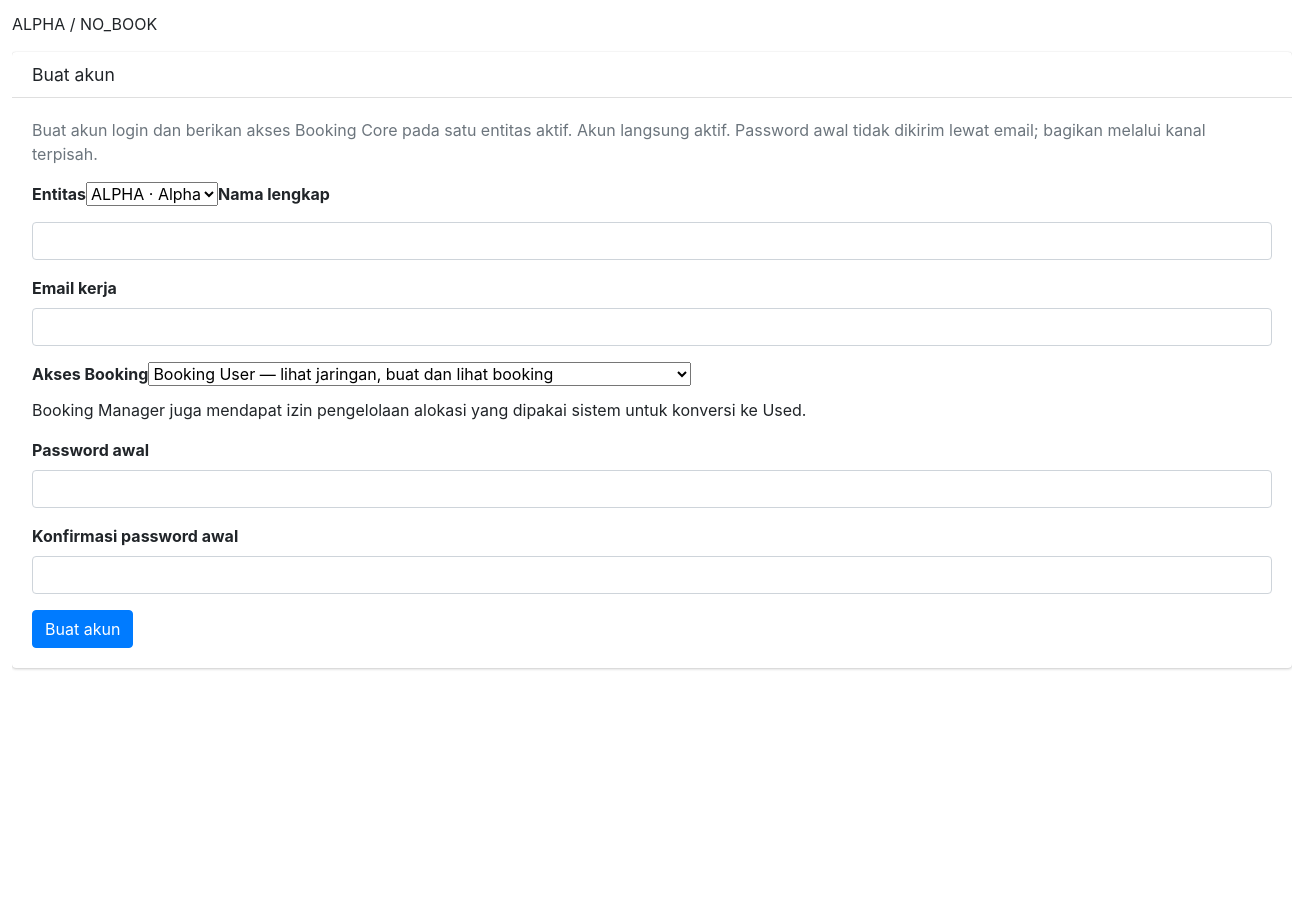
Scenario: operational API interactions › creates a booking account with confirmed initial password and clears secret fields
The image size is (1292, 912).
In the field labelled "Nama lengkap": (652, 241) 32,222 -> 1272,260, type "Booking Tester"
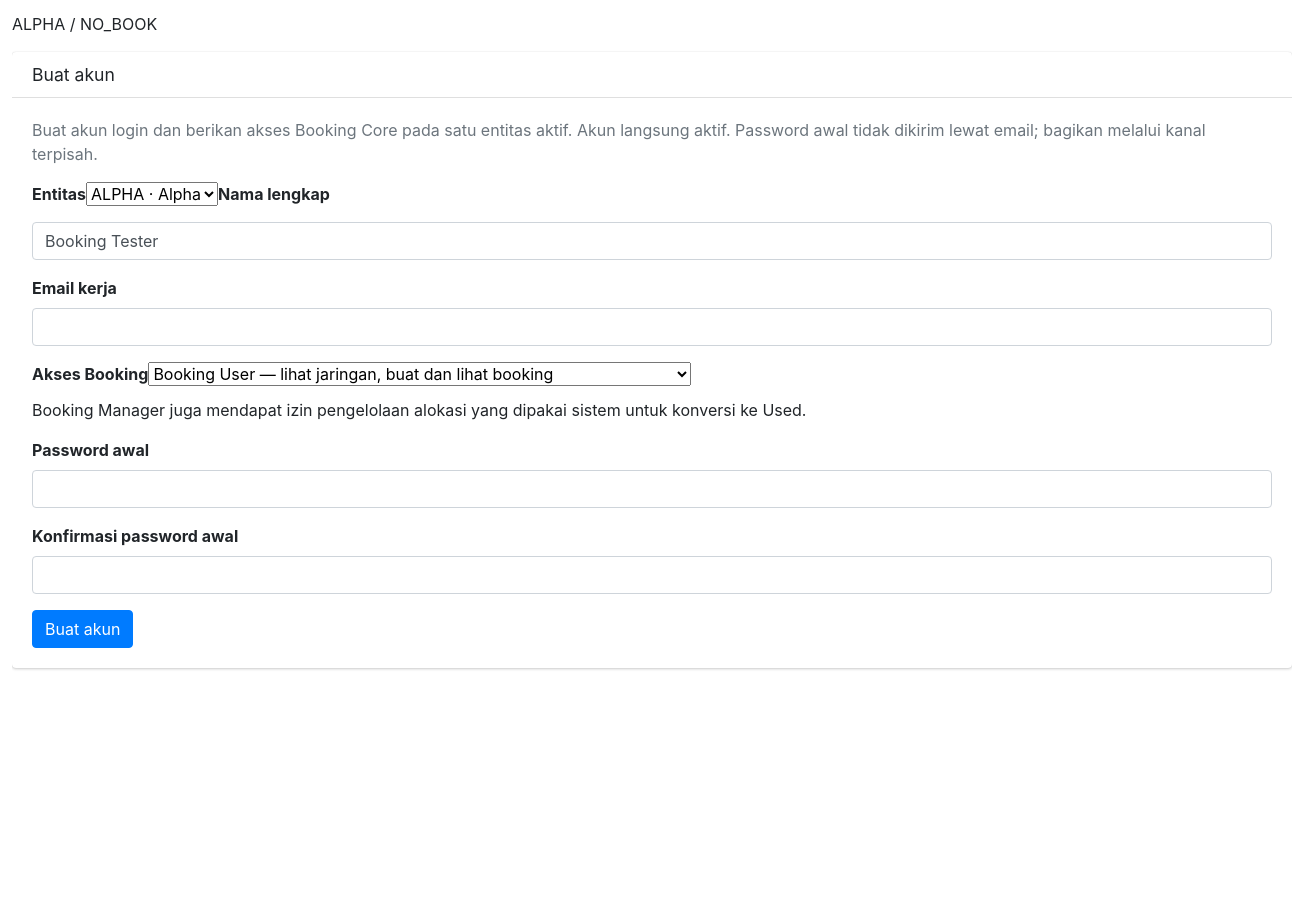
In the field labelled "Email kerja": (652, 327) 32,308 -> 1272,346, type "booking@example.test"
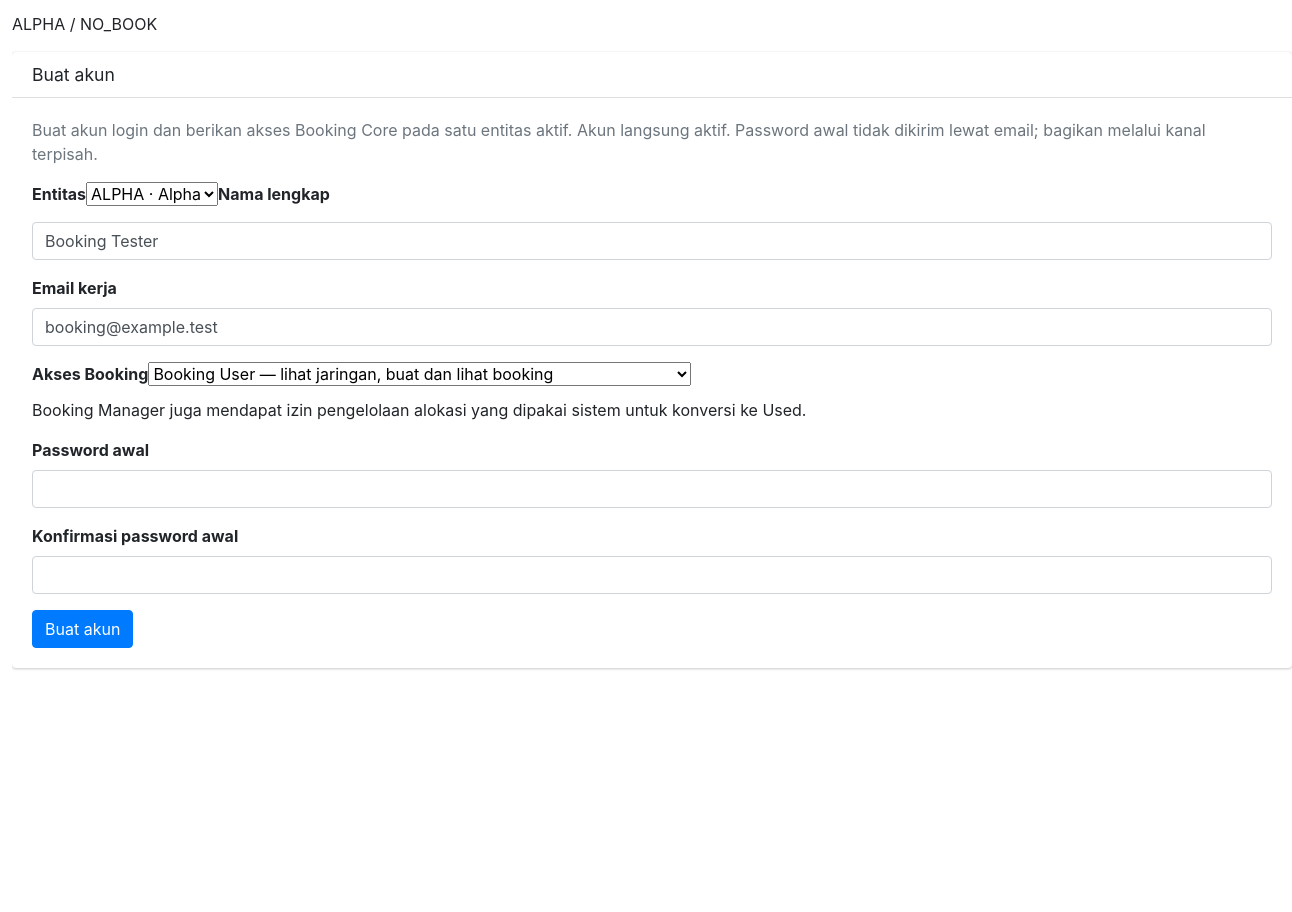
Select "Booking Manager — termasuk release booking dan konversi ke Used" in the dropdown labelled "Akses Booking": (420, 374) 148,362 -> 691,386
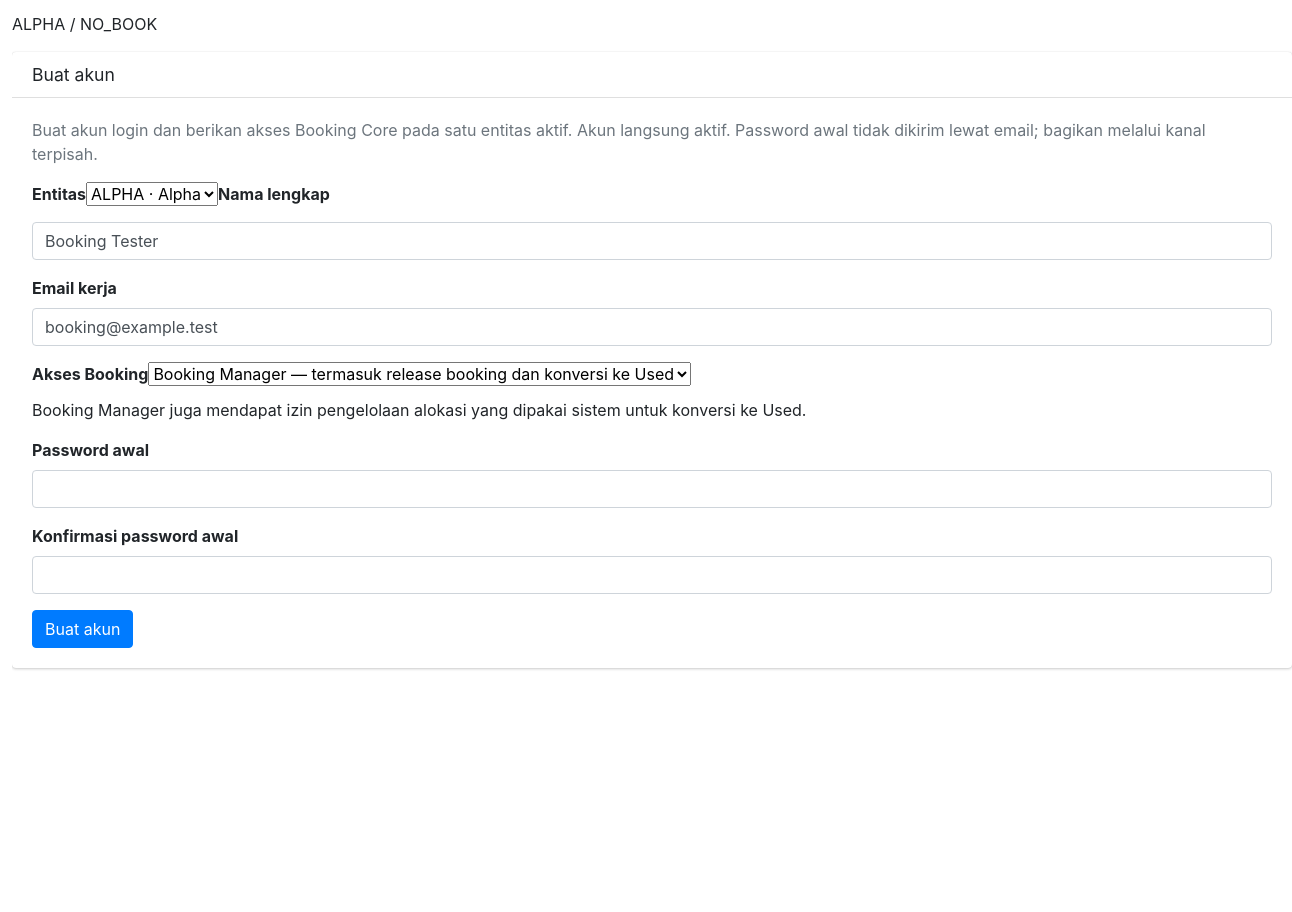
In the password field labelled "Password awal": (652, 489) 32,470 -> 1272,508, type "Secret-test-2026"
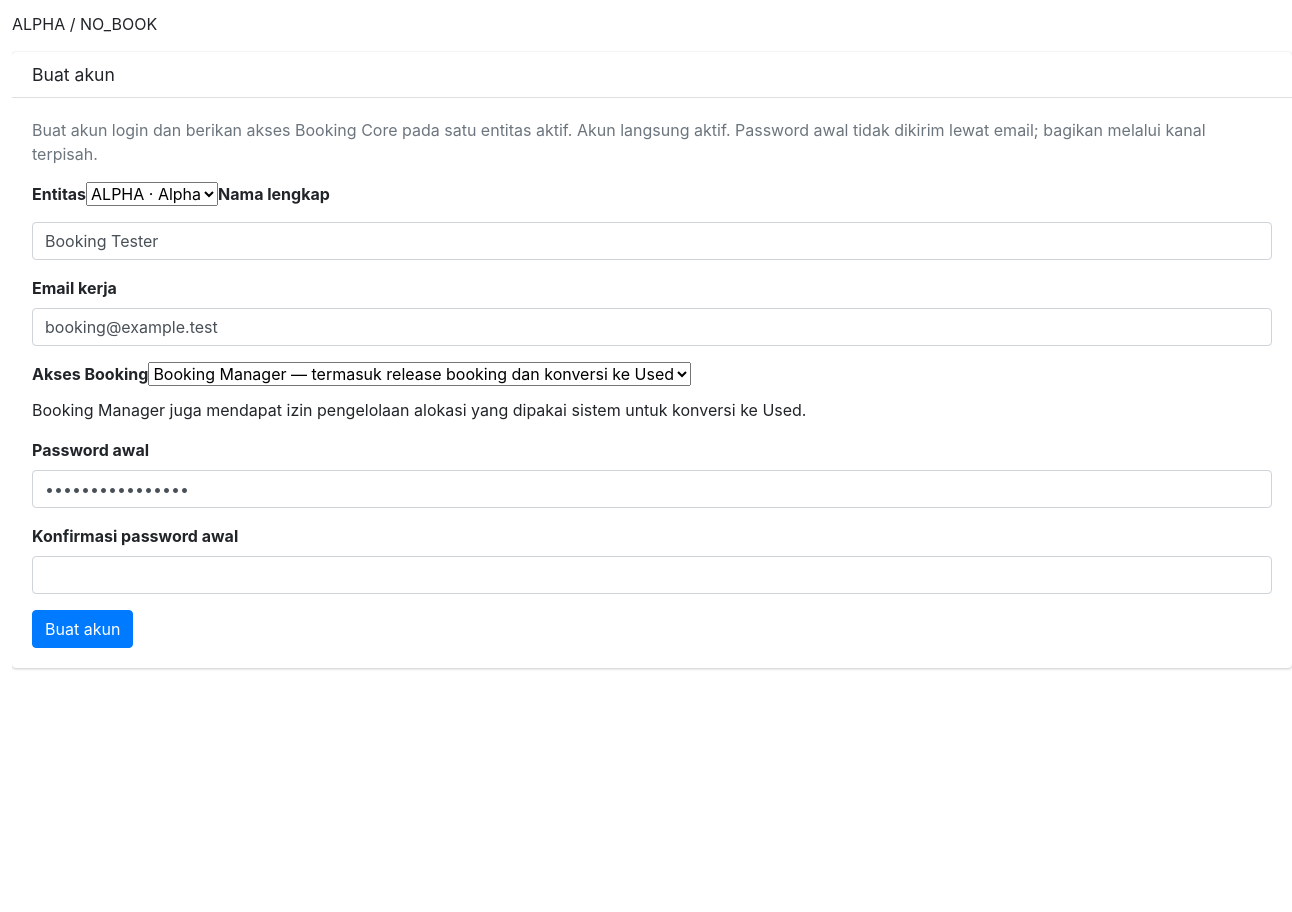
In the password field labelled "Konfirmasi password awal": (652, 575) 32,556 -> 1272,594, type "Secret-test-2026"
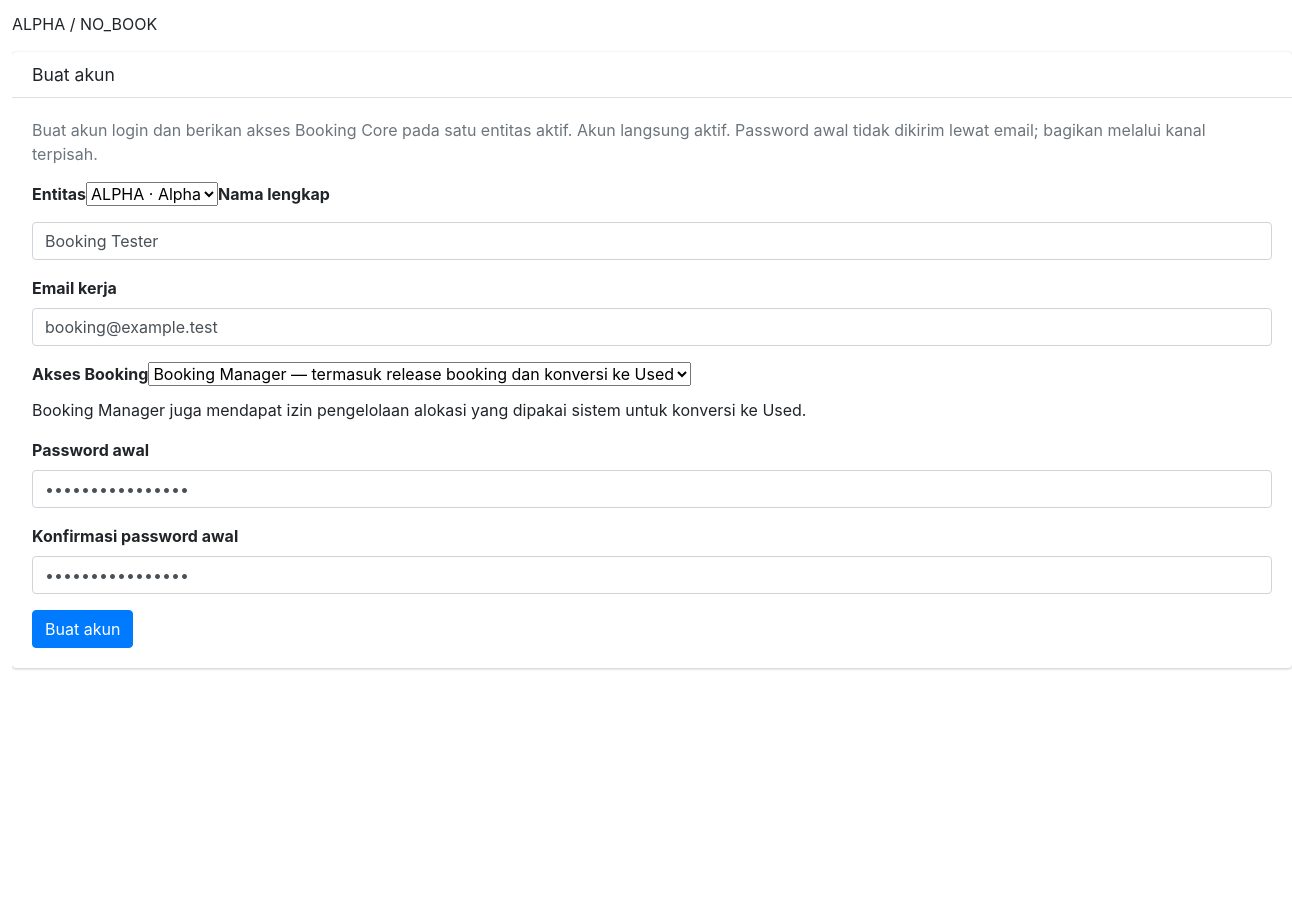
Click the button "Buat akun": (83, 629) 32,610 -> 133,648
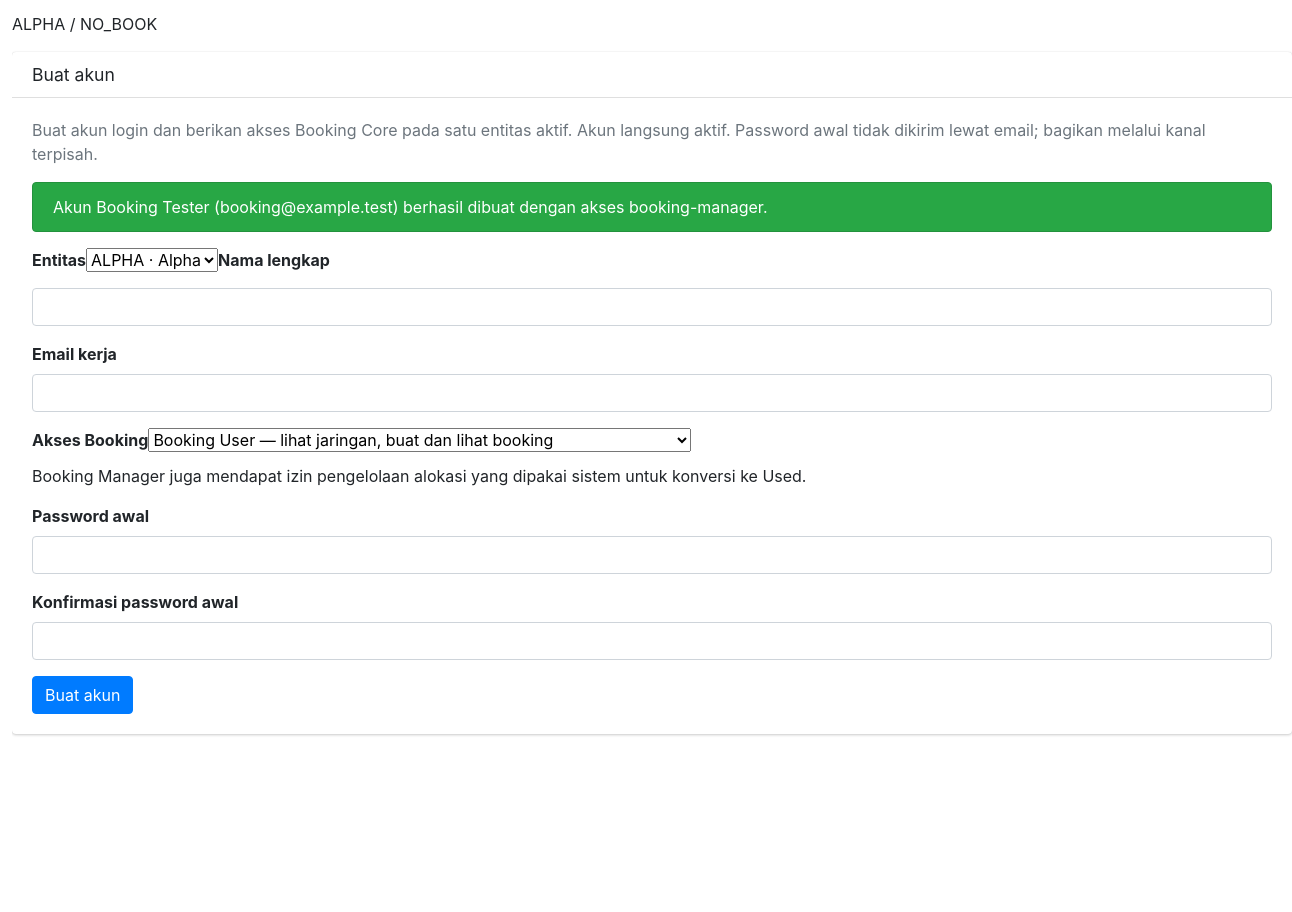
Result: the text "berhasil dibuat dengan akses booking-manager" is shown at 53,197 -> 768,217
Result: the password field labelled "Password awal" is empty at 32,536 -> 1272,574
